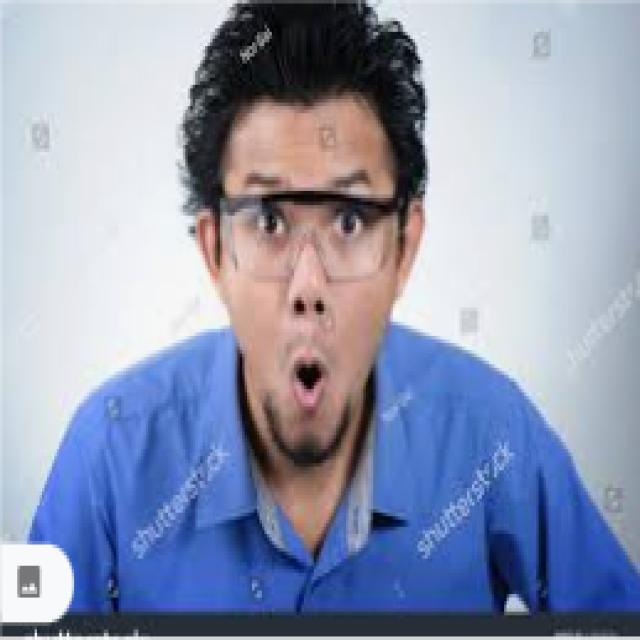glasses: (202, 193, 418, 291)
